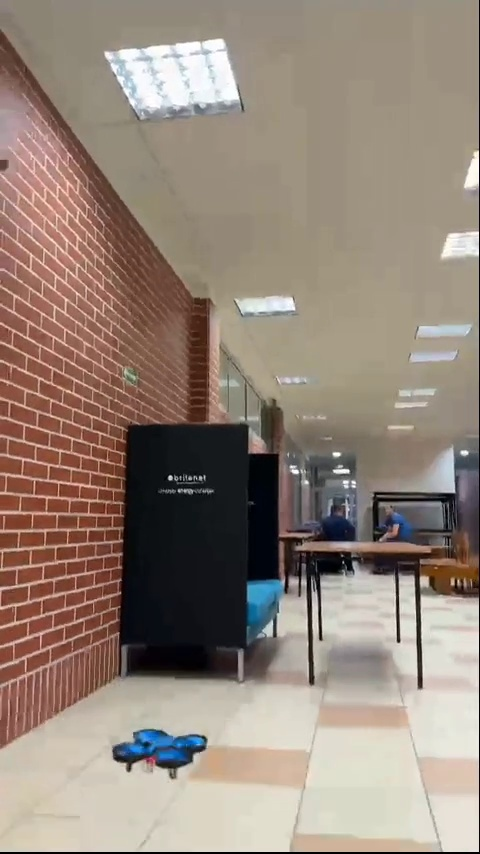drone: (114, 727, 210, 780)
no vest: (367, 496, 417, 549), (313, 496, 358, 546)
